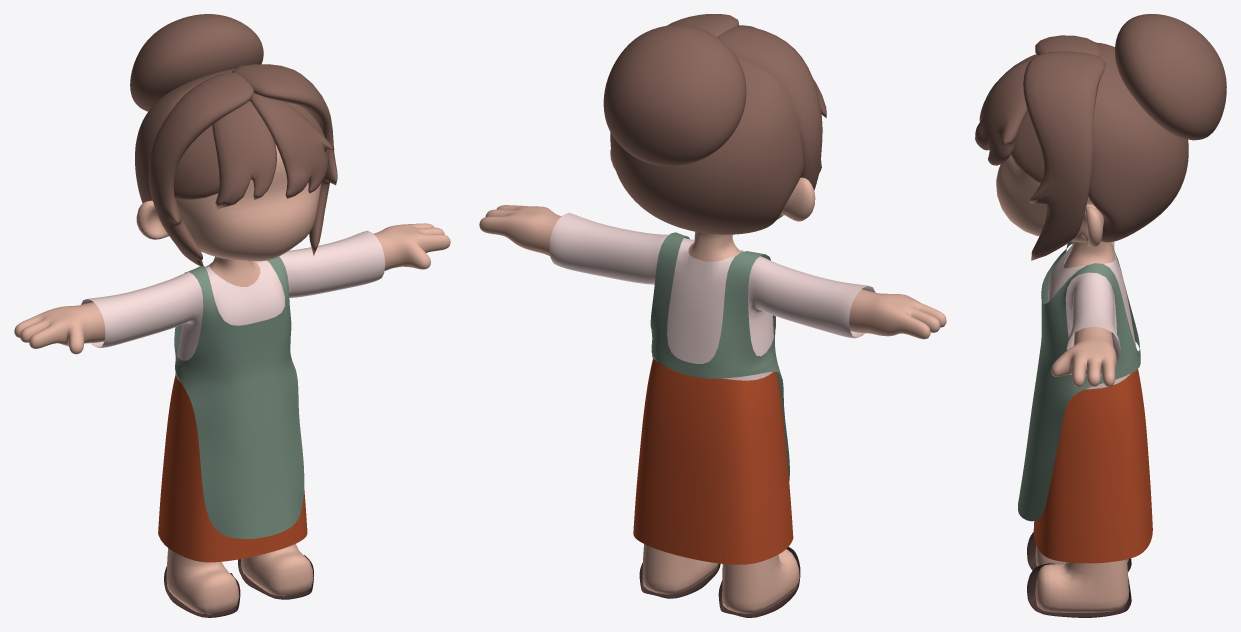
Rendered from Mama.fbx.
3 renders of one model, left to right at view 1: azimuth 30°, elevation 25°; view 2: azimuth 150°, elevation 25°; view 3: azimuth 270°, elevation 25°, orthographic. The views are drawn at different scales.
Visible parts, largest first — view 1: Delantal, Chibi, Blusa, Falda, Bollo, 4, 1, 2, 5, 3, Calva, Zapatos; view 2: Falda, Blusa, Calva, Bollo, Chibi, Delantal, 4, Zapatos, 5; view 3: Falda, Chibi, Calva, 5, Bollo, Delantal, Blusa, 2, 3, Zapatos, 4.
Part boxes in pixels (left/top/right/bottom): Delantal: left=174, top=256, right=304, bottom=538; Chibi: left=14, top=144, right=450, bottom=614; Blusa: left=81, top=230, right=385, bottom=382; Falda: left=158, top=375, right=307, bottom=562; Bollo: left=130, top=14, right=263, bottom=111; 4: left=148, top=72, right=253, bottom=266; 1: left=212, top=100, right=276, bottom=209; 2: left=250, top=93, right=334, bottom=198; 5: left=231, top=64, right=337, bottom=255; 3: left=173, top=102, right=328, bottom=199; Calva: left=135, top=68, right=235, bottom=203; Zapatos: left=164, top=555, right=313, bottom=617; Falda: left=633, top=358, right=793, bottom=564; Blusa: left=549, top=212, right=875, bottom=380; Calva: left=610, top=57, right=803, bottom=234; Bollo: left=603, top=25, right=746, bottom=166; Chibi: left=479, top=149, right=946, bottom=613; Delantal: left=650, top=232, right=789, bottom=480; 4: left=717, top=26, right=822, bottom=190; Zapatos: left=639, top=547, right=800, bottom=617; 5: left=667, top=14, right=739, bottom=36; Falda: left=1033, top=369, right=1152, bottom=563; Chibi: left=996, top=155, right=1128, bottom=612; Calva: left=1088, top=42, right=1188, bottom=242; 5: left=1023, top=51, right=1105, bottom=260; Bollo: left=1115, top=14, right=1226, bottom=140; Delantal: left=1018, top=241, right=1140, bottom=521; Blusa: left=1048, top=241, right=1136, bottom=389; 2: left=975, top=58, right=1032, bottom=165; 3: left=1011, top=112, right=1088, bottom=197; Zapatos: left=1027, top=532, right=1131, bottom=617; 4: left=1035, top=35, right=1100, bottom=55.
Bounding box in the file's own units: 132 × 163 × 65.41.
